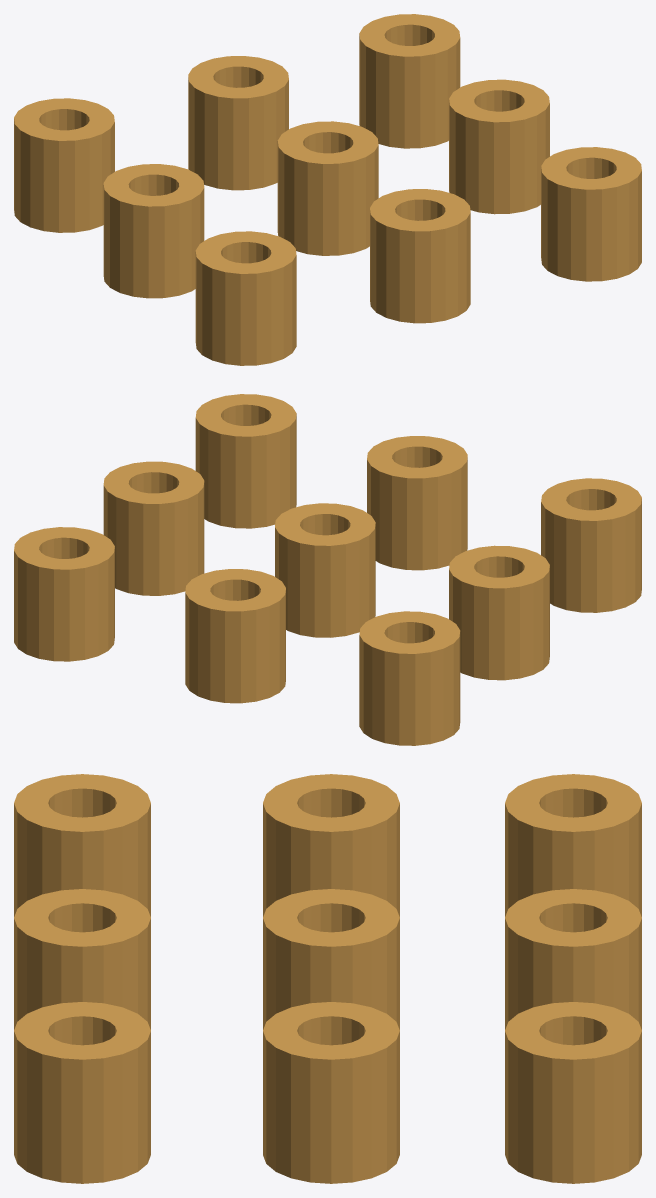
File: duckpad_v2_lock.glb
The picture shows the model from 3 angles, top to bottom: view 1: azimuth 30°, elevation 25°; view 2: azimuth 150°, elevation 25°; view 3: azimuth 270°, elevation 25°; orthographic projection. The views are drawn at different scales.
Visible parts, largest first — view 1: Mesh_Mesh_head_geo.001_lambert2SG.001; view 2: Mesh_Mesh_head_geo.001_lambert2SG.001; view 3: Mesh_Mesh_head_geo.001_lambert2SG.001.
Boxes of the visible parts, x1,y1,x2,y2 form: Mesh_Mesh_head_geo.001_lambert2SG.001: (14, 14, 641, 365); Mesh_Mesh_head_geo.001_lambert2SG.001: (14, 394, 641, 745); Mesh_Mesh_head_geo.001_lambert2SG.001: (14, 774, 641, 1183).
Bounding box in the file's own units: 29.6 × 6 × 27.5.
